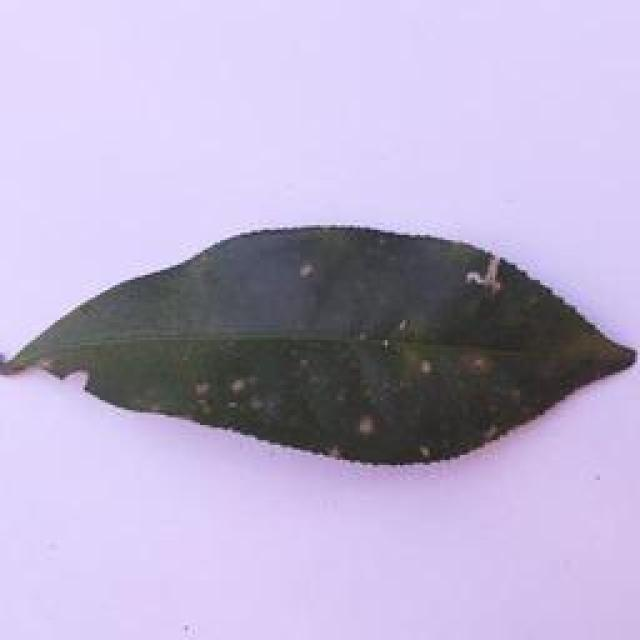Algal Leaf Spot: (0, 208, 640, 474)
